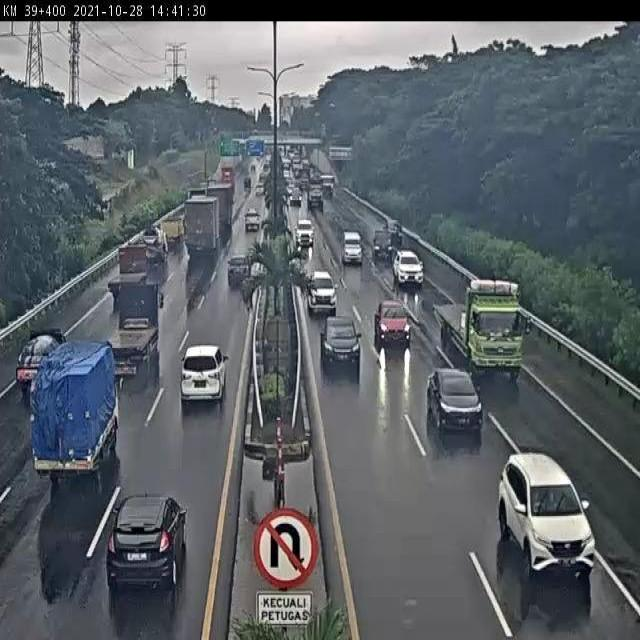car: (498, 452, 596, 572), (104, 492, 186, 585), (427, 368, 484, 433), (15, 328, 67, 392), (179, 344, 227, 408), (319, 316, 361, 371), (374, 300, 411, 349), (306, 271, 337, 313), (393, 249, 424, 284), (227, 255, 252, 288), (341, 231, 363, 264), (372, 229, 393, 259)
mid truck: (184, 196, 220, 255)
small truck: (160, 218, 186, 250)
truck-l-: (432, 273, 525, 379)
truck-m-: (31, 339, 120, 485), (105, 284, 163, 376), (108, 245, 148, 299), (138, 225, 169, 271)
